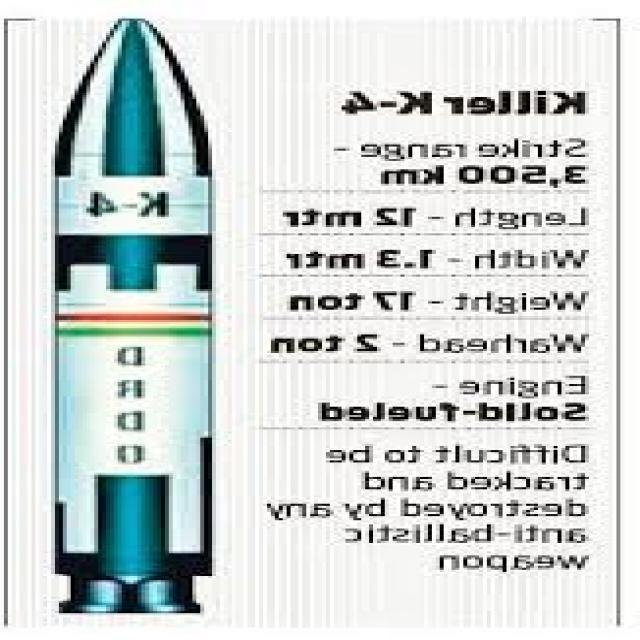missile: (31, 6, 256, 620)
